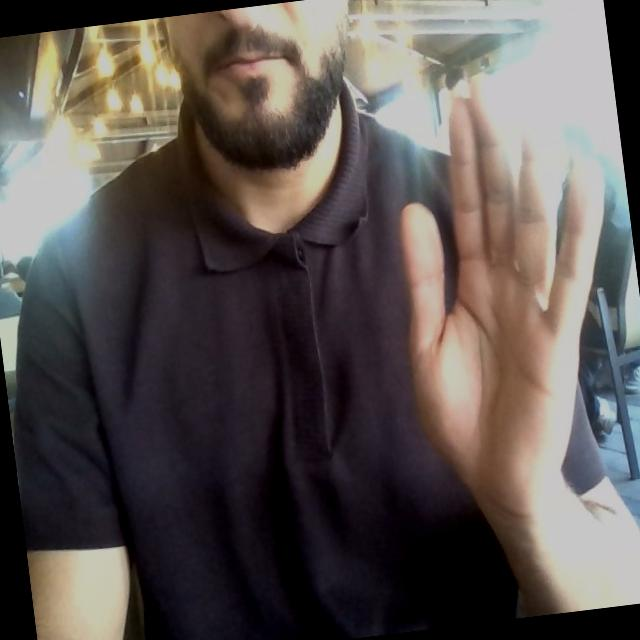Hand: (401, 78, 603, 516)
